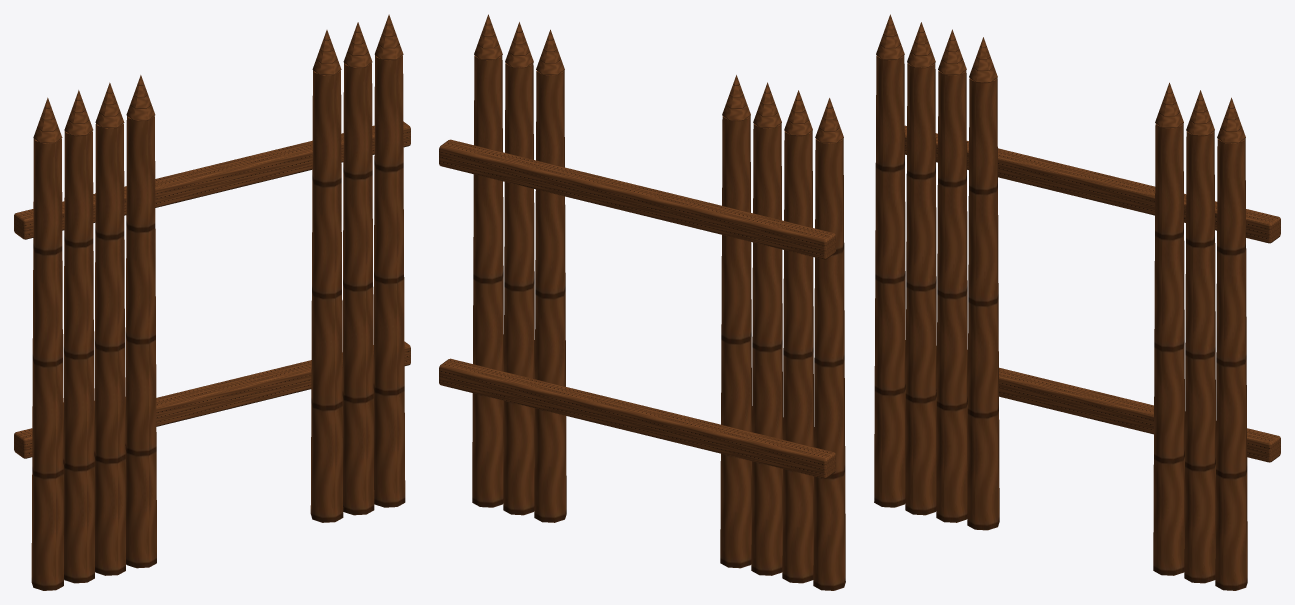
The model's file is fortified-compound-expansion-palisade-offset-slots-d3af8197__27081.glb.
3 views of the same model, side by side, from view 1: azimuth 30°, elevation 25°; view 2: azimuth 150°, elevation 25°; view 3: azimuth 330°, elevation 25° (orthographic).
Parts seen in each view (by area): view 1: palisade-offset-slots; view 2: palisade-offset-slots; view 3: palisade-offset-slots.
Part boxes in pixels (x1,y1,x2,y2): palisade-offset-slots: (14,14,410,590); palisade-offset-slots: (439,14,845,590); palisade-offset-slots: (874,14,1280,590).
Bounding box in the file's own units: 2 × 2.4 × 0.2476.
Materials: 1 (1 with a texture image).
